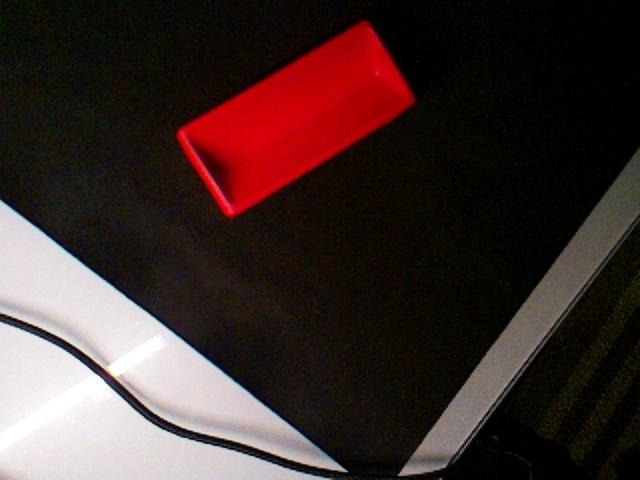red: (175, 19, 417, 219)
